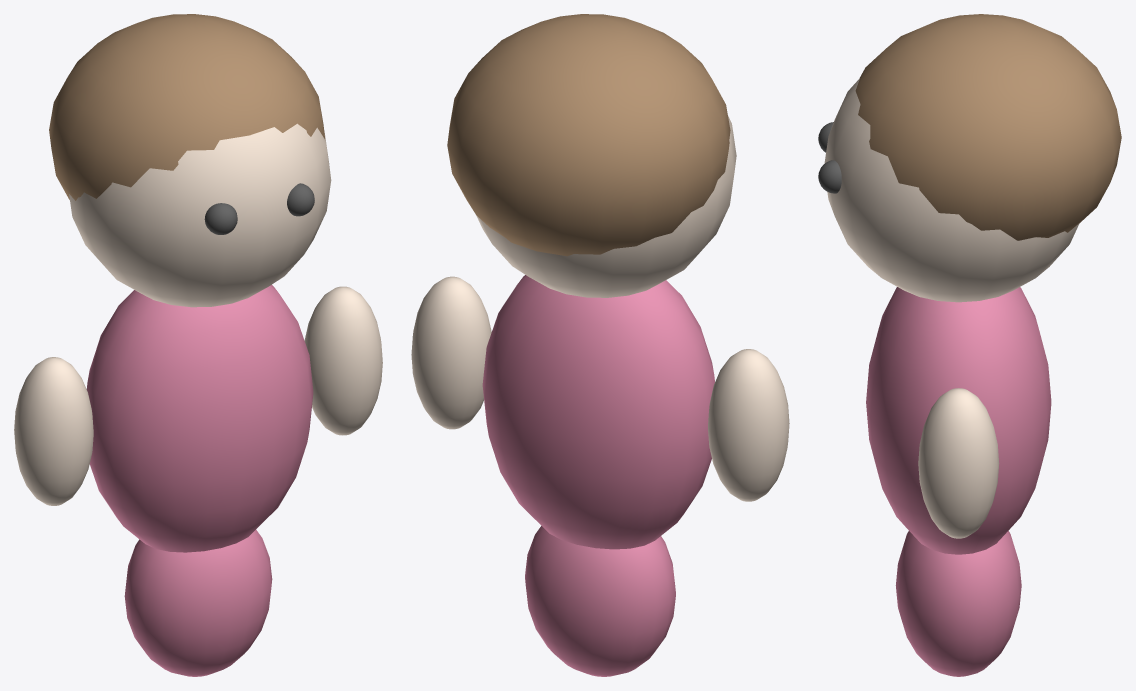
Rendered from fxplushdoll.glb.
3 views of the same model, side by side, from view 1: azimuth 30°, elevation 25°; view 2: azimuth 150°, elevation 25°; view 3: azimuth 270°, elevation 25° (orthographic). The views are drawn at different scales.
Parts seen in each view (by area): view 1: body, hair, head, legs, arm, arm.001, eye, eye.001; view 2: hair, body, legs, head, arm, arm.001; view 3: hair, body, head, legs, arm.001, eye.001.
Part boxes in pixels (<box>): body: <box>86,285,313,552</box>; hair: <box>49,14,325,200</box>; head: <box>69,123,331,307</box>; legs: <box>124,529,272,676</box>; arm: <box>14,357,93,505</box>; arm.001: <box>304,286,382,435</box>; eye: <box>204,203,237,234</box>; eye.001: <box>287,183,314,216</box>; hair: <box>447,14,730,256</box>; body: <box>482,275,714,549</box>; legs: <box>525,526,675,676</box>; head: <box>476,116,736,297</box>; arm: <box>708,349,789,501</box>; arm.001: <box>411,276,491,429</box>; hair: <box>855,14,1121,240</box>; body: <box>866,287,1051,554</box>; head: <box>824,78,1079,302</box>; legs: <box>895,531,1021,676</box>; arm.001: <box>918,388,999,538</box>; eye.001: <box>818,160,841,193</box>.
Size of the model in its own units: 0.372 by 0.6302 by 0.27.
